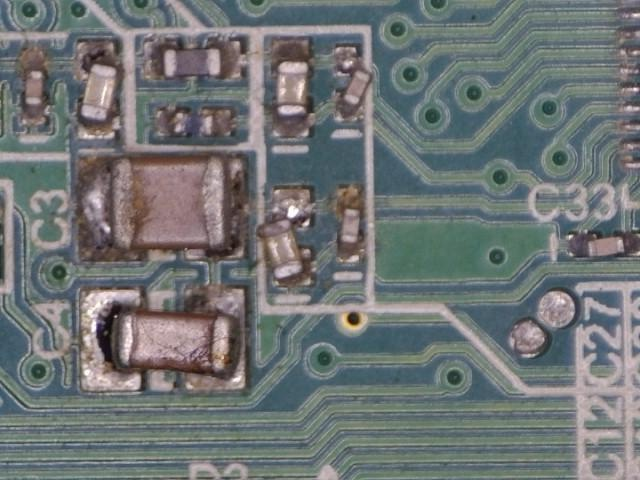pcb_defect: (256, 187, 313, 287), (75, 40, 118, 141), (333, 46, 374, 123)
